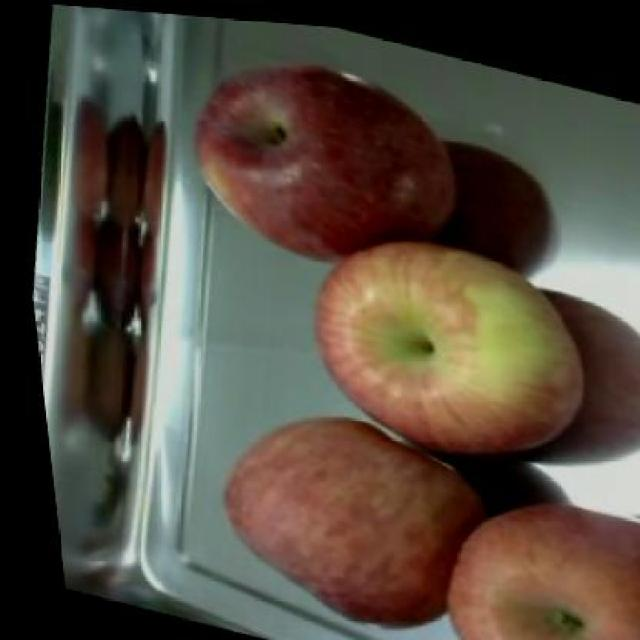Fresh Apple: (314, 251, 589, 466), (185, 72, 468, 260), (229, 418, 460, 610), (446, 514, 640, 640)
